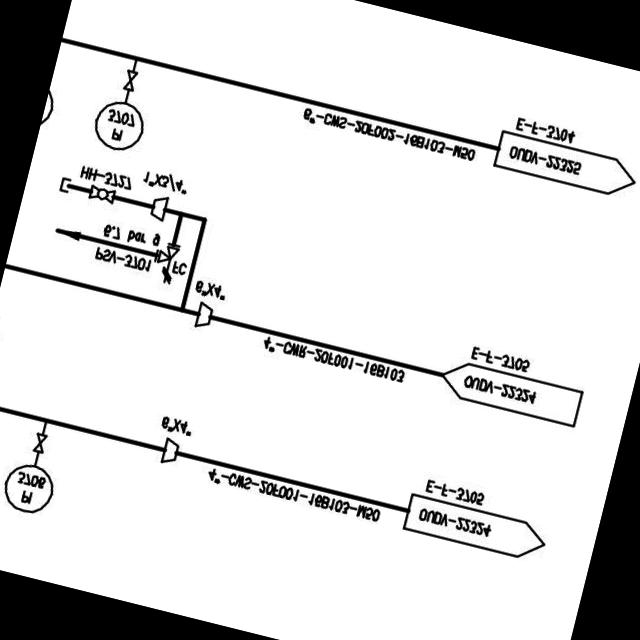BV2: (82, 181, 119, 205)
EC: (56, 174, 84, 199)
GV: (28, 428, 52, 458), (118, 66, 142, 95)
RPV: (143, 238, 183, 290)
SP: (188, 296, 218, 332), (154, 434, 182, 468), (144, 193, 170, 222)
